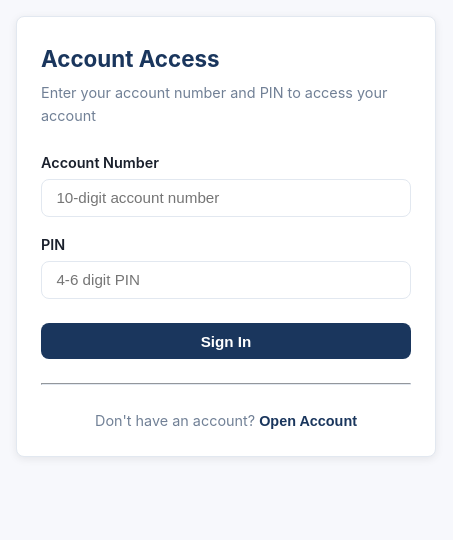
Test: AccountLookup › shows error message on login failure
Type "1000000001" into the field labelled "Account Number" at (226, 198), box [41,179,411,217]
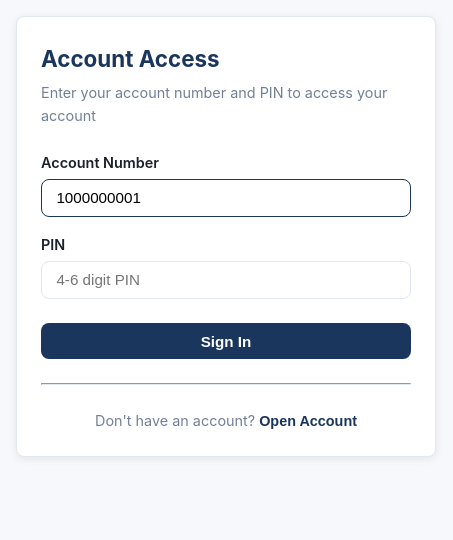
Type "9999" into the password field labelled "PIN" at (226, 280), box [41,261,411,299]
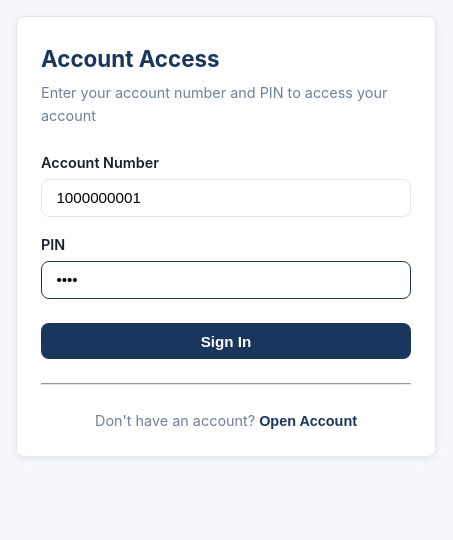
Click the button "Sign In" at (226, 341), box [41,323,411,359]
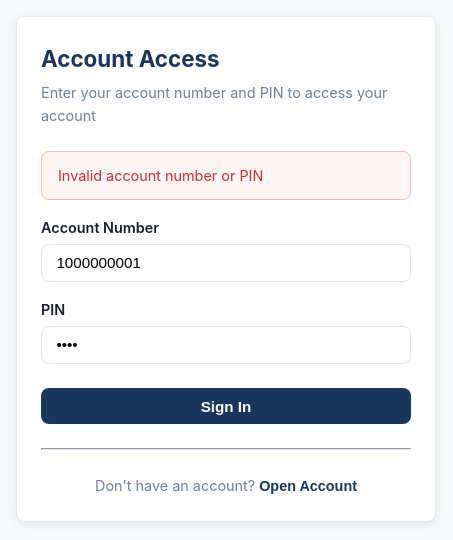
Expected: the text "Invalid account number or PIN" is shown, [41,151,411,200]
